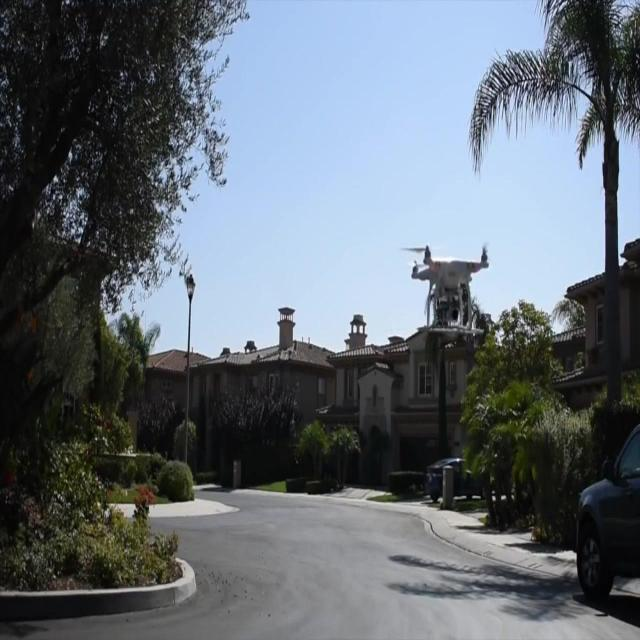drone: (404, 242, 498, 340)
